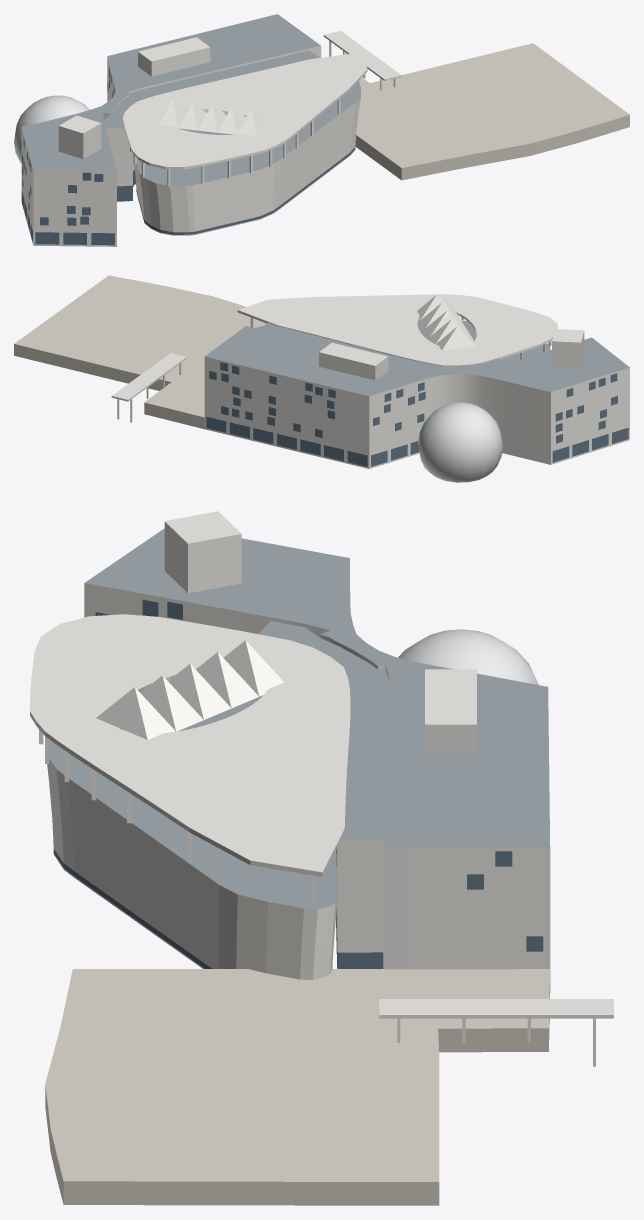
The model's file is mia-frost-science.glb.
The picture shows the model from 3 angles, top to bottom: view 1: azimuth 30°, elevation 25°; view 2: azimuth 150°, elevation 25°; view 3: azimuth 270°, elevation 25°; orthographic projection. The views are drawn at different scales.
Visible parts, largest first — view 1: Frost Museum of Science; view 2: Frost Museum of Science; view 3: Frost Museum of Science.
Part boxes in pixels (left/top/right/bottom): Frost Museum of Science: left=14, top=14, right=629, bottom=246; Frost Museum of Science: left=14, top=275, right=629, bottom=482; Frost Museum of Science: left=30, top=511, right=613, bottom=1205.
Size of the model in its own units: 194 by 33 by 89.57.
